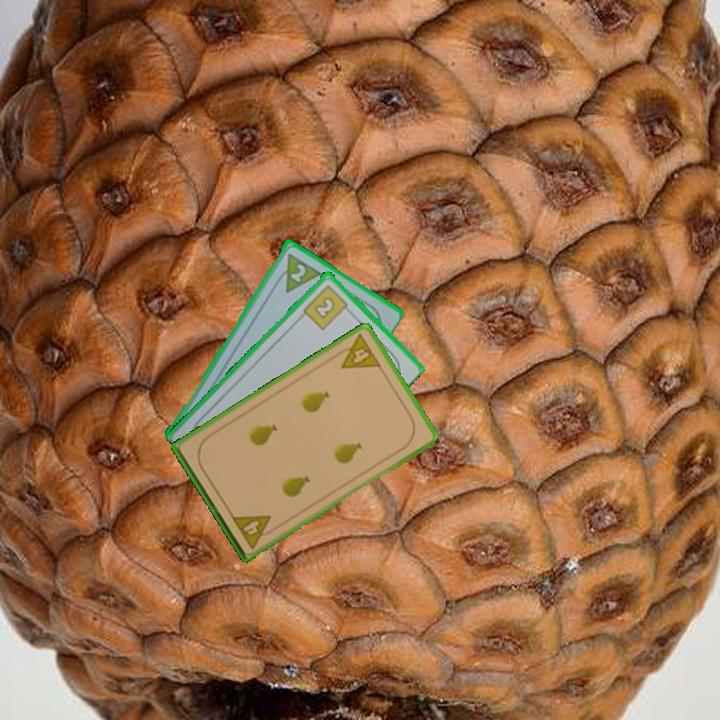2b: (299, 281, 354, 332)
2p: (286, 260, 309, 285)
4p: (331, 330, 384, 371), (228, 511, 280, 552)
